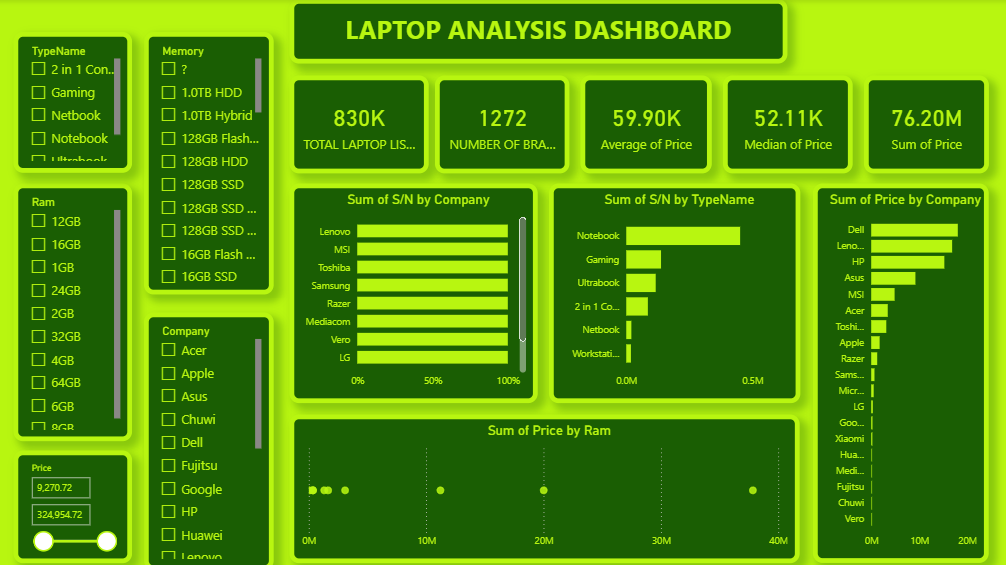

The page's visual inventory and layout, read from the dashboard file:
{"tool":"powerbi","page":{"name":"MARKETING AND PRICING OVERVIEW","canvas":[1280,720],"ordinal":0},"visuals":[{"type":"textbox","box":[372.5,0,627.4,81.7],"z":0},{"type":"card","fields":{"Values":["Sum(laptopData.S/N)"]},"box":[372.5,95.6,175.3,123.5],"z":1000},{"type":"card","fields":{"Values":["CountNonNull(laptopData.Company)"]},"box":[555.7,95.6,169.3,123.5],"z":2000},{"type":"card","fields":{"Values":["Avg(laptopData.Price)"]},"box":[738.9,95.6,165.3,123.5],"z":3000},{"type":"card","fields":{"Values":["Median(laptopData.Price)"]},"box":[918.2,95.6,163.3,123.5],"z":4000},{"type":"card","fields":{"Values":["Sum(laptopData.Price)"]},"box":[1095.5,95.6,157.3,123.5],"z":5000},{"type":"slicer","fields":{"Values":["laptopData.Ram"]},"box":[23.9,233,149.4,324.7],"z":6000},{"type":"slicer","fields":{"Values":["laptopData.Company"]},"box":[189.2,394.4,163.3,324.7],"z":7000},{"type":"slicer","fields":{"Values":["laptopData.Price"]},"box":[24.6,568.8,149.3,141.7],"z":8000},{"type":"slicer","fields":{"Values":["laptopData.Memory"]},"box":[189.2,41.8,163.3,330.6],"z":9000},{"type":"slicer","fields":{"Values":["laptopData.TypeName"]},"box":[23.9,41.8,149.4,177.3],"z":10000},{"type":"hundredPercentStackedBarChart","fields":{"Y":["Sum(laptopData.S/N)"],"Category":["laptopData.Company"]},"box":[372.5,233,312.7,276.9],"z":11000},{"type":"barChart","fields":{"Y":["Sum(laptopData.S/N)"],"Category":["laptopData.TypeName"]},"box":[699.1,233,316.7,276.9],"z":12000},{"type":"scatterChart","fields":{"X":["Sum(laptopData.Price)"],"Category":["laptopData.Ram"]},"box":[372.3,523.5,642.5,187.1],"z":13000},{"type":"clusteredBarChart","fields":{"Y":["Sum(laptopData.Price)"],"Category":["laptopData.Company"]},"box":[1031.7,233,221.1,478],"z":14000}]}

Visuals, with their boxes in screenshot pixels (x1, y1, x2, y2), scaled from the page's 1280x720 canvas onto the 1006x565 screenshot:
textbox: l=293, t=0, r=786, b=64
card - Sum(laptopData.S/N): l=293, t=75, r=431, b=172
card - CountNonNull(laptopData.Company): l=437, t=75, r=570, b=172
card - Avg(laptopData.Price): l=581, t=75, r=711, b=172
card - Median(laptopData.Price): l=722, t=75, r=850, b=172
card - Sum(laptopData.Price): l=861, t=75, r=985, b=172
slicer - laptopData.Ram: l=19, t=183, r=136, b=438
slicer - laptopData.Company: l=149, t=309, r=277, b=564
slicer - laptopData.Price: l=19, t=446, r=137, b=558
slicer - laptopData.Memory: l=149, t=33, r=277, b=292
slicer - laptopData.TypeName: l=19, t=33, r=136, b=172
hundredPercentStackedBarChart - Sum(laptopData.S/N) x laptopData.Company: l=293, t=183, r=539, b=400
barChart - Sum(laptopData.S/N) x laptopData.TypeName: l=549, t=183, r=798, b=400
scatterChart - Sum(laptopData.Price) x laptopData.Ram: l=293, t=411, r=798, b=558
clusteredBarChart - Sum(laptopData.Price) x laptopData.Company: l=811, t=183, r=985, b=558
